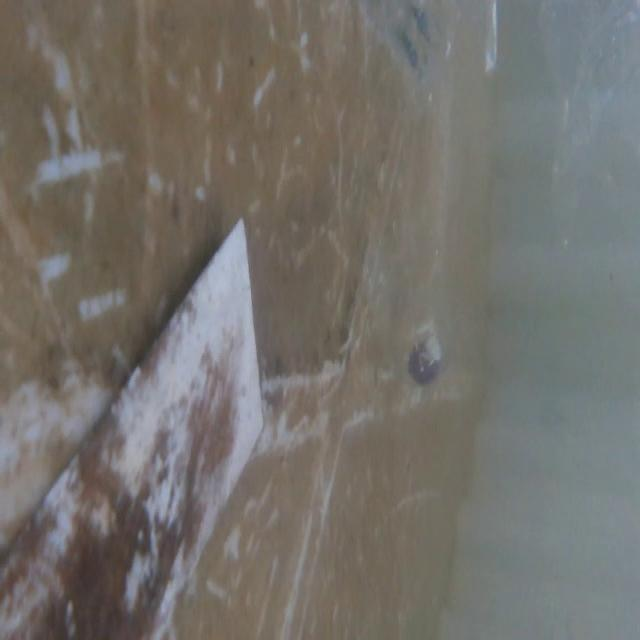metal: (0, 209, 266, 640)
plastic bottle: (356, 196, 460, 394)
